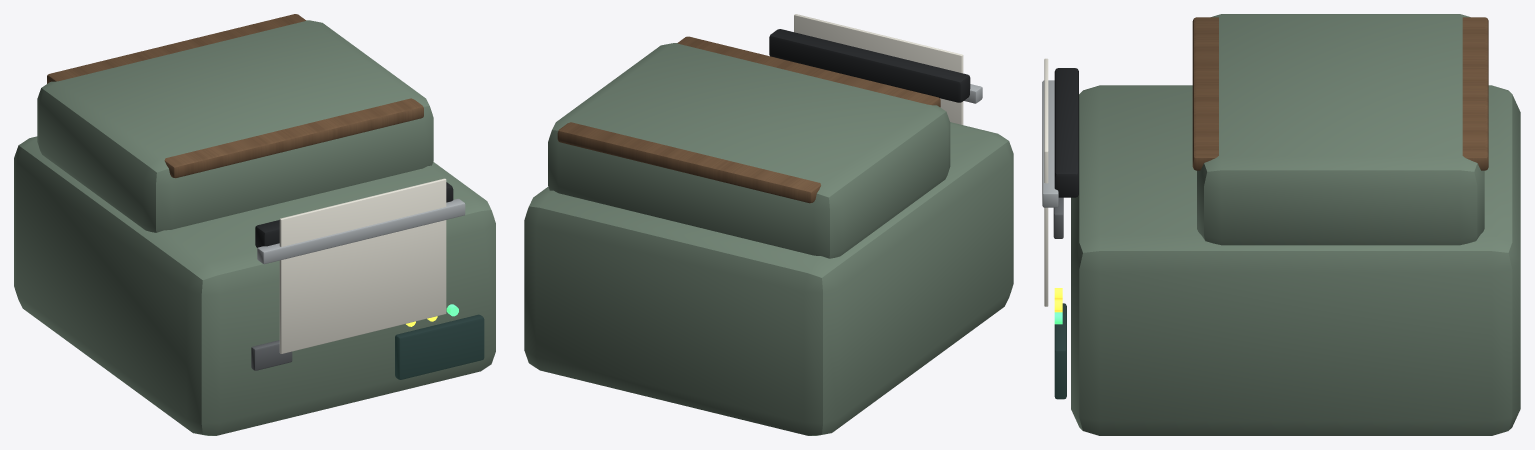
Rendered from receipt_printer_high_end.glb.
3 views of the same model, side by side, from view 1: azimuth 30°, elevation 25°; view 2: azimuth 150°, elevation 25°; view 3: azimuth 270°, elevation 25° (orthographic). The views are drawn at different scales.
Parts seen in each view (by area): view 1: Printer_Body, Printer_RollLid, ReceiptPaper, Printer_LidTrim, Printer_NetworkPanel, Printer_AutoCutter, Printer_FeedButton, Printer_OutputSlot; view 2: Printer_Body, Printer_RollLid, Printer_LidTrim, Printer_OutputSlot, ReceiptPaper; view 3: Printer_Body, Printer_RollLid, Printer_LidTrim, Printer_OutputSlot, Printer_AutoCutter, ReceiptPaper, Printer_NetworkPanel.
Boxes of the visible parts, <box> form: Printer_Body: <box>14,136,495,435</box>; Printer_RollLid: <box>37,20,433,232</box>; ReceiptPaper: <box>279,178,446,353</box>; Printer_LidTrim: <box>47,14,423,178</box>; Printer_NetworkPanel: <box>395,314,484,379</box>; Printer_AutoCutter: <box>257,199,465,264</box>; Printer_FeedButton: <box>251,340,292,370</box>; Printer_OutputSlot: <box>255,182,453,247</box>; Printer_Body: <box>524,122,1013,435</box>; Printer_RollLid: <box>548,43,950,258</box>; Printer_LidTrim: <box>557,36,940,203</box>; Printer_OutputSlot: <box>769,29,970,102</box>; ReceiptPaper: <box>794,14,963,124</box>; Printer_Body: <box>1071,85,1520,435</box>; Printer_RollLid: <box>1197,14,1484,245</box>; Printer_LidTrim: <box>1192,17,1488,170</box>; Printer_OutputSlot: <box>1054,68,1078,197</box>; Printer_AutoCutter: <box>1042,80,1058,207</box>; ReceiptPaper: <box>1044,58,1048,306</box>; Printer_NetworkPanel: <box>1054,303,1066,399</box>.
Size of what is drawn, in the model's own units: 0.2 by 0.1485 by 0.234.
9 materials, 1 textured.
